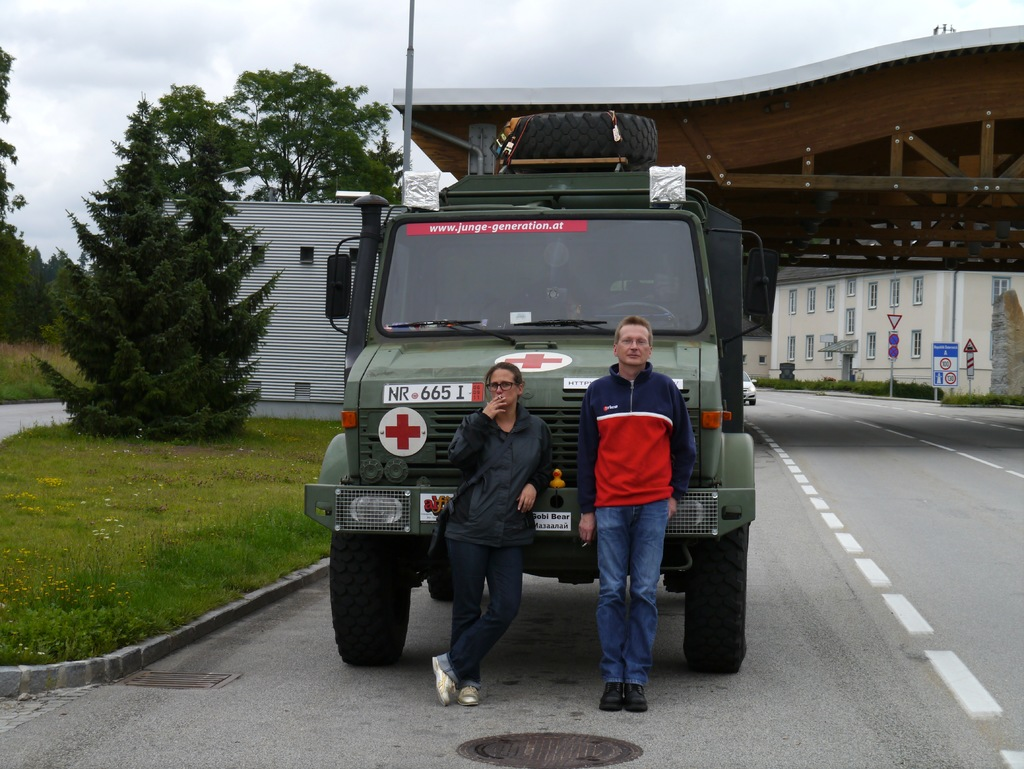Car: (742, 366, 757, 406)
